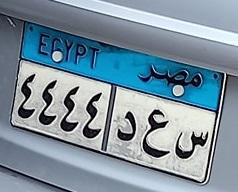4: (81, 86, 103, 148), (59, 80, 80, 138), (39, 72, 58, 136), (17, 68, 36, 125)
ain: (139, 102, 172, 164)
daal: (116, 108, 137, 146)
seen: (173, 124, 209, 164)
